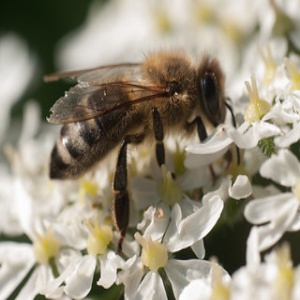bee: (38, 49, 243, 235)
